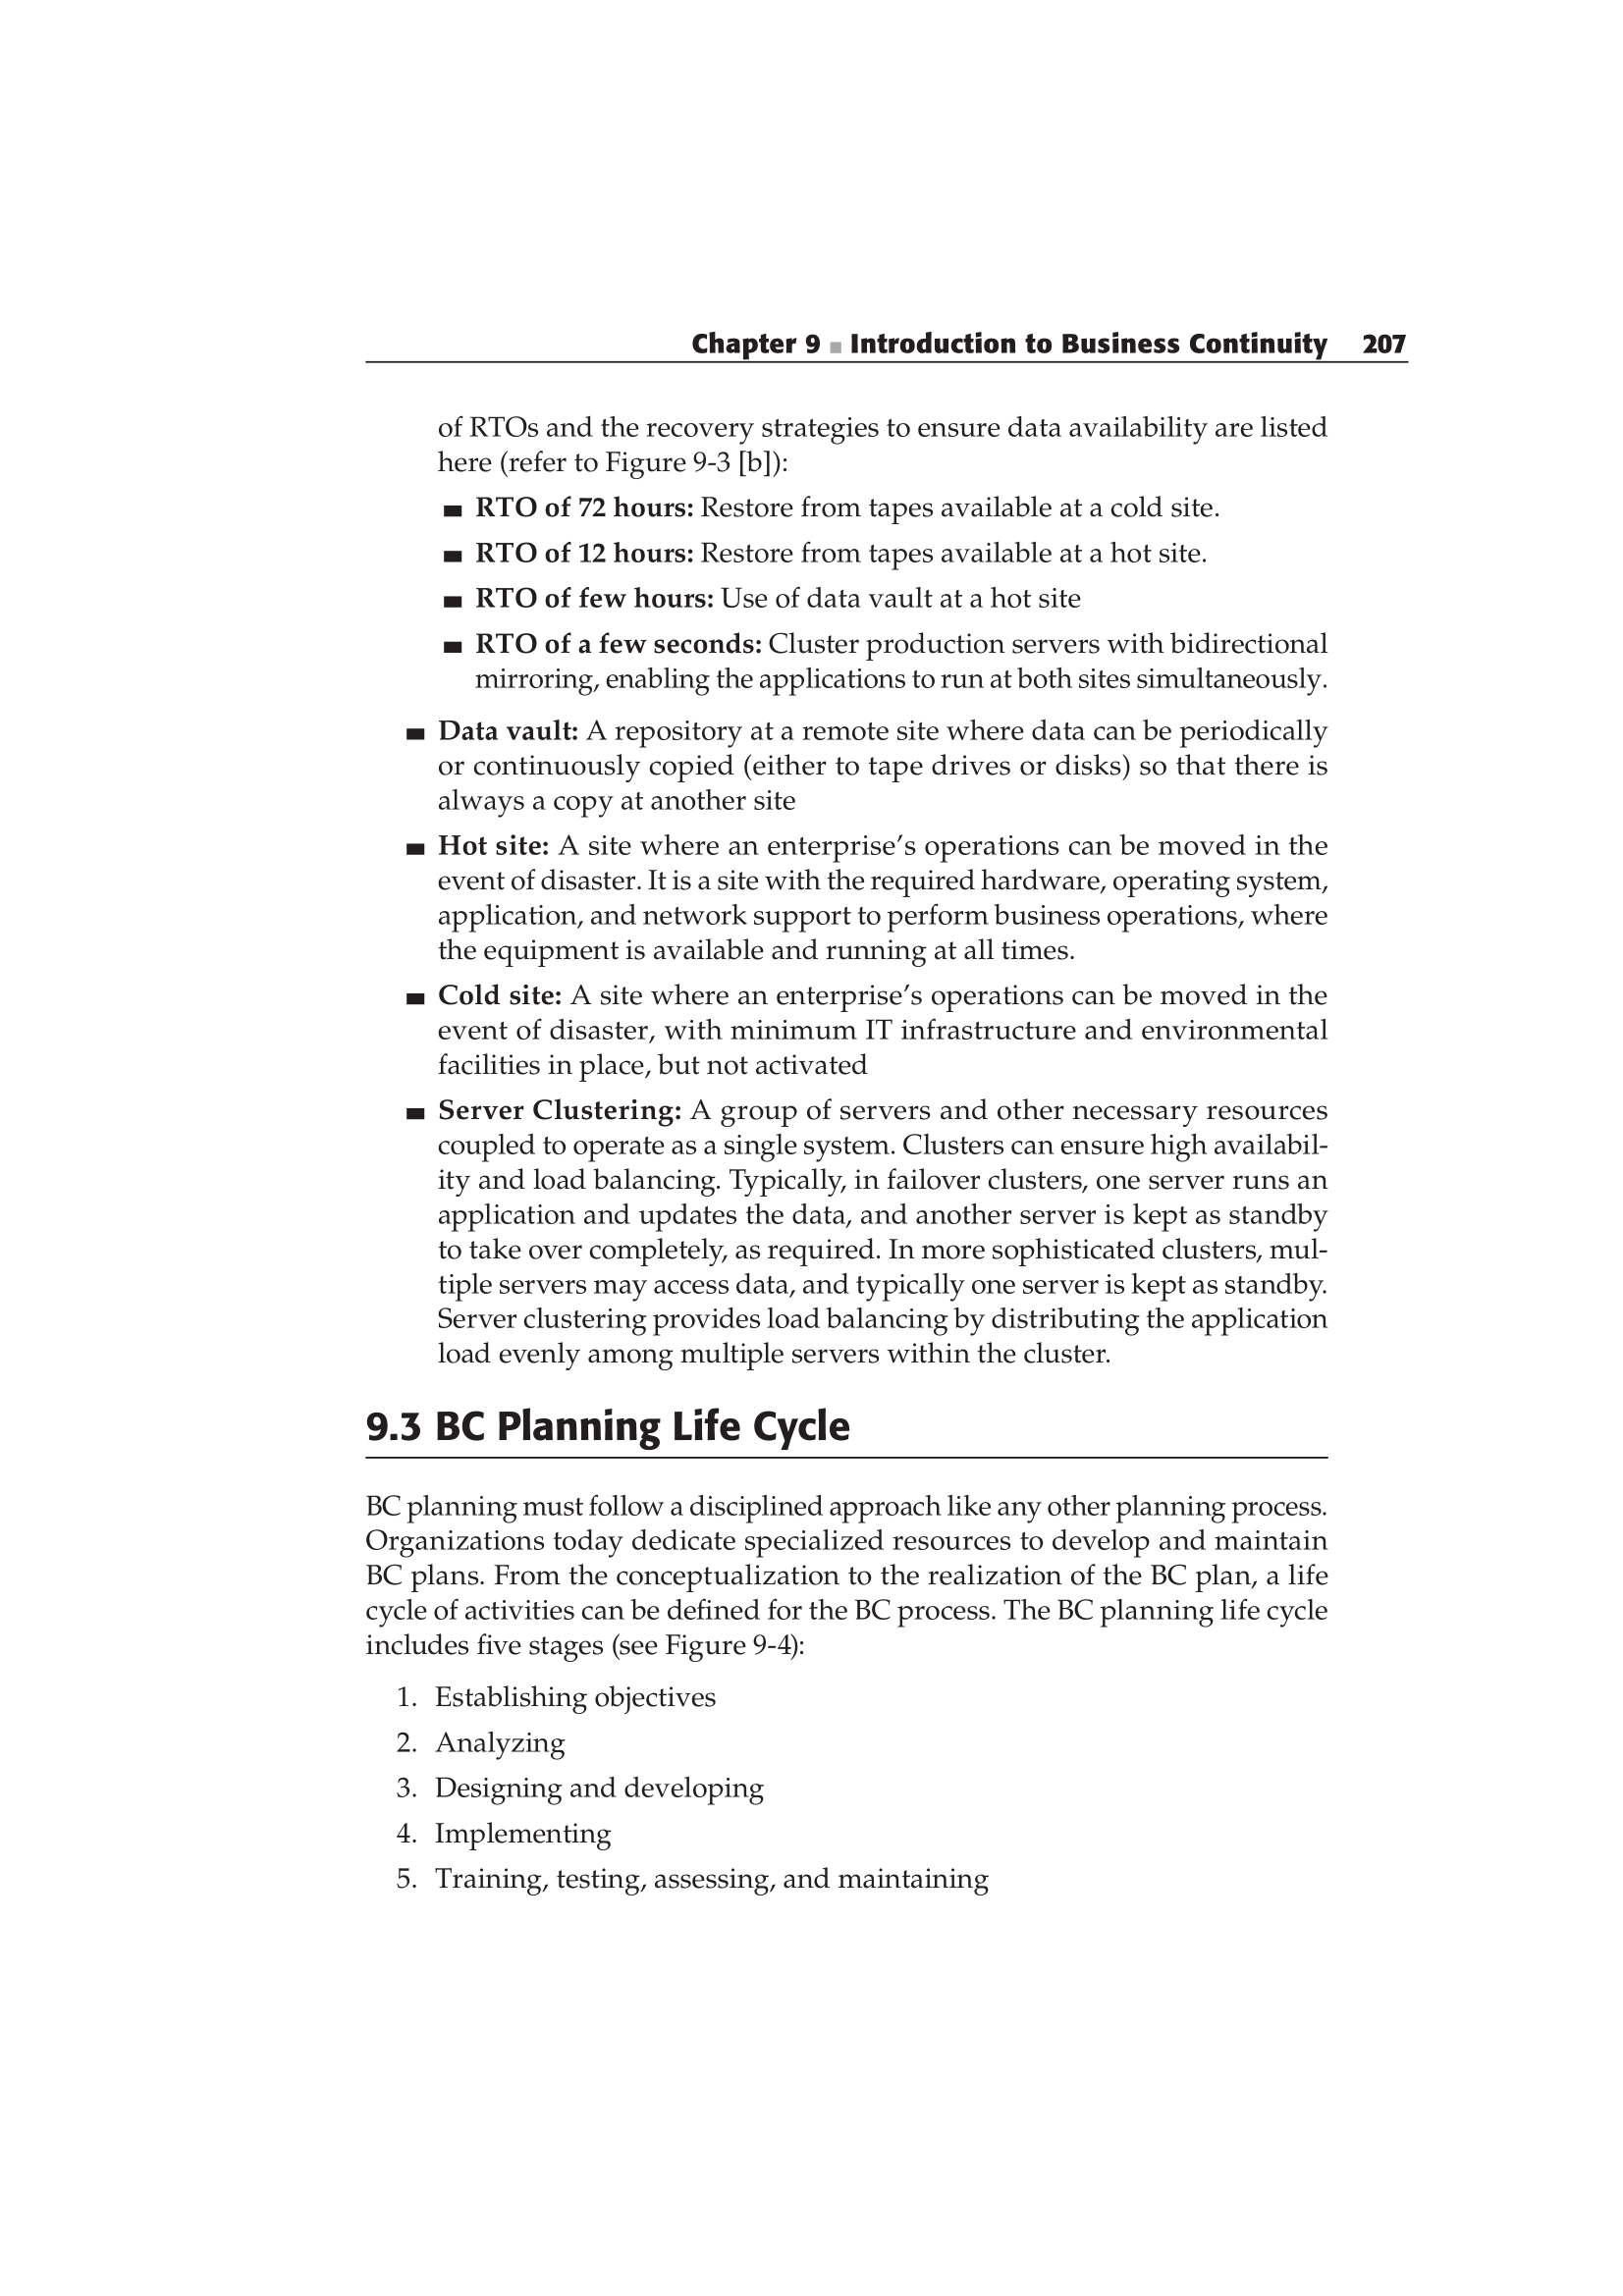Image: (351, 1392, 871, 1452)
Paragraph: (429, 1087, 1338, 1388), (351, 1480, 1333, 1666), (416, 1671, 1054, 1917), (434, 830, 1333, 972), (429, 707, 1338, 816), (425, 987, 1333, 1081), (416, 405, 1328, 479), (471, 625, 1342, 699), (694, 305, 1425, 370), (465, 488, 1237, 530), (465, 534, 1214, 576), (471, 585, 1100, 616)
